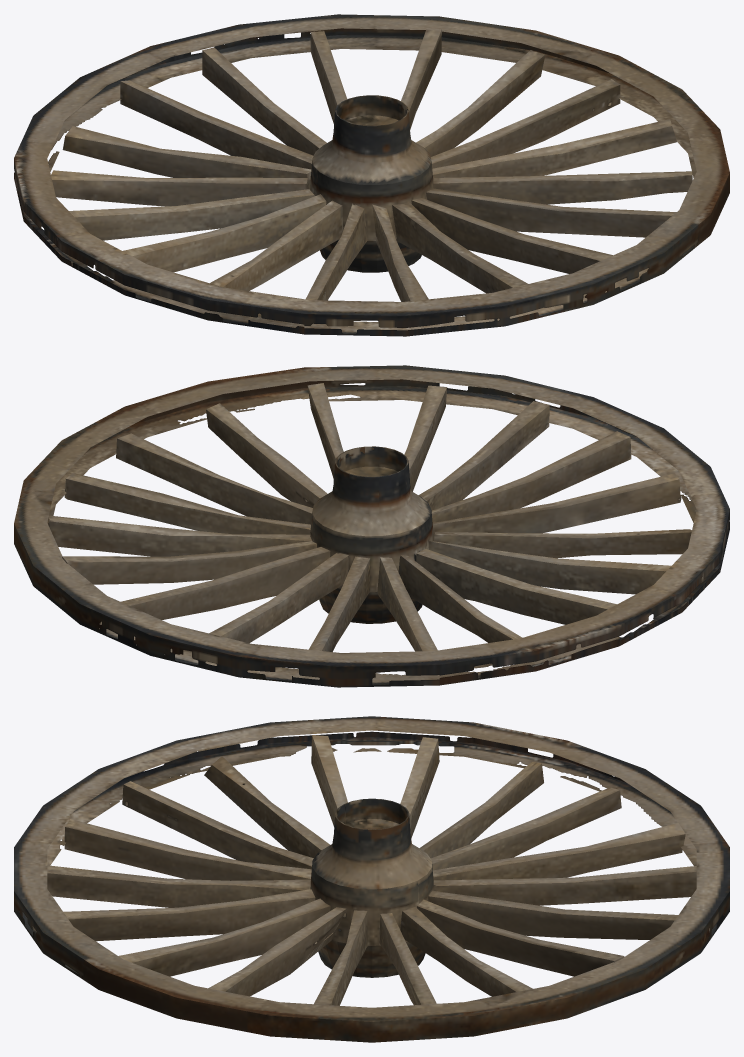
File: OU_AR_Wooden_Whell_02_D.fbx
The picture shows the model from 3 angles, top to bottom: view 1: azimuth 30°, elevation 25°; view 2: azimuth 150°, elevation 25°; view 3: azimuth 270°, elevation 25°; orthographic projection.
Parts seen in each view (by area): view 1: OU_AR_Wooden_Whell_02_D; view 2: OU_AR_Wooden_Whell_02_D; view 3: OU_AR_Wooden_Whell_02_D.
Part boxes in pixels (<box>): OU_AR_Wooden_Whell_02_D: <box>14,14,729,336</box>; OU_AR_Wooden_Whell_02_D: <box>14,365,729,687</box>; OU_AR_Wooden_Whell_02_D: <box>14,716,729,1042</box>.
Bounding box in the file's own units: 147 × 33.9 × 146.
1 material, 1 textured.
